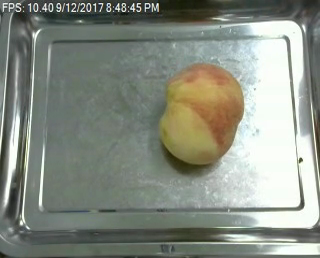Peach: (157, 61, 244, 165)
